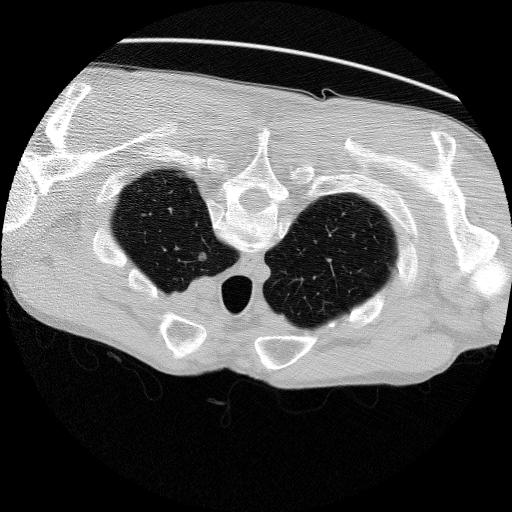nodule: (194, 250, 210, 266)
